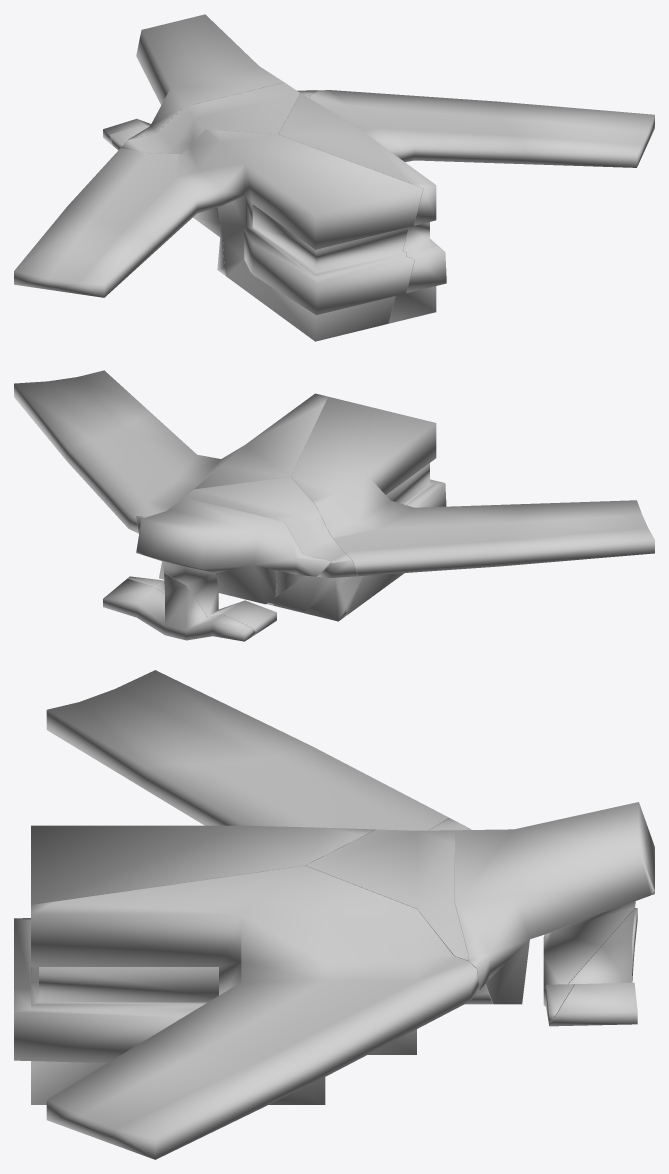
3 renders of one model, top to bottom at view 1: azimuth 30°, elevation 25°; view 2: azimuth 150°, elevation 25°; view 3: azimuth 270°, elevation 25°, orthographic. The views are drawn at different scales.
Parts seen in each view (by area): view 1: 3_cell.001, 3_cell.002, 3_cell.004, 3_cell; view 2: 3_cell.001, 3_cell.002, 3_cell.004, 3_cell, 3_cell.005; view 3: 3_cell.002, 3_cell.001, 3_cell.004, 3_cell, 3_cell.005.
Part boxes in pixels (box(x1,y1,x2,y2)): 3_cell.001: box(14, 129, 423, 341); 3_cell.002: box(278, 90, 654, 323); 3_cell.004: box(110, 14, 318, 150); 3_cell: box(121, 82, 310, 275); 3_cell.001: box(291, 396, 654, 614); 3_cell.002: box(14, 370, 327, 605); 3_cell.004: box(127, 497, 331, 633); 3_cell: box(183, 476, 357, 621); 3_cell.005: box(103, 573, 256, 641); 3_cell.002: box(14, 865, 479, 1159); 3_cell.001: box(14, 670, 448, 989); 3_cell.004: box(455, 802, 654, 1021); 3_cell: box(305, 818, 492, 1004); 3_cell.005: box(548, 908, 637, 1026).
Bounding box in the file's own units: 5.64 × 3.25 × 1.32.
1 material, 1 textured.
